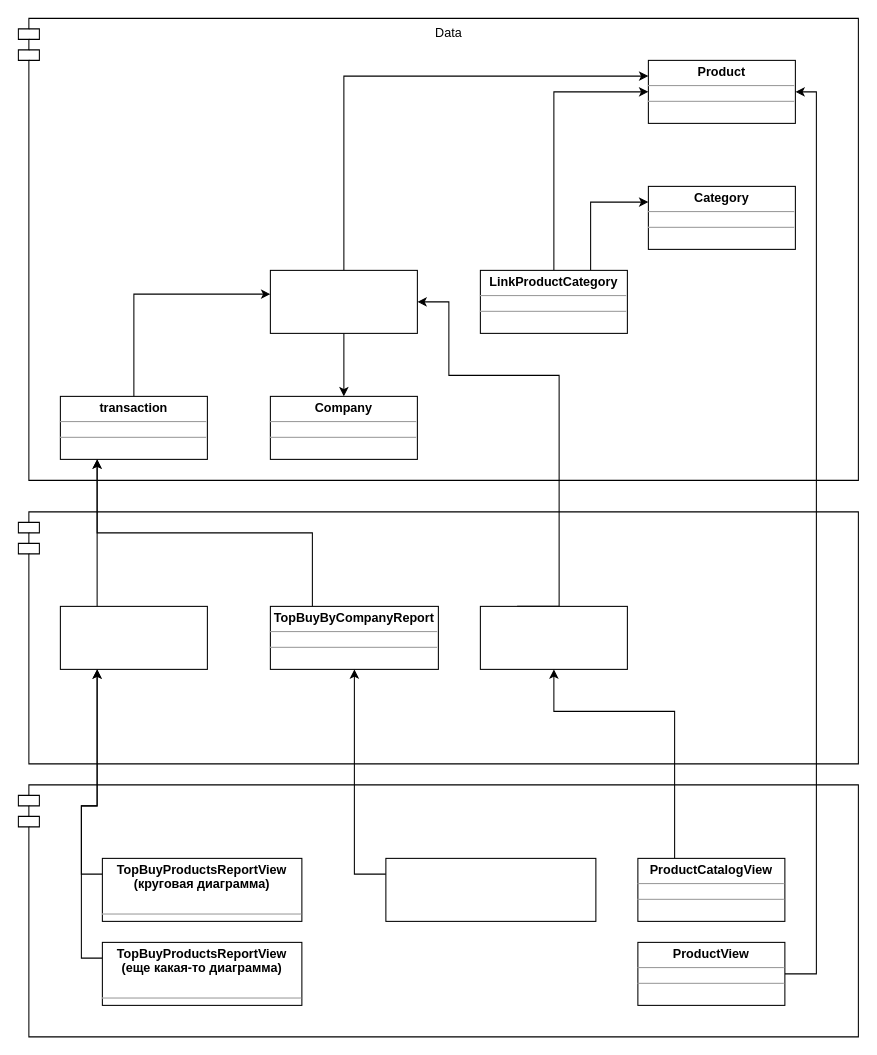
The diagram is 877 pixels wide and 1055 high, and some of its shapes have lost their labels. The shapes that lost their labels are listed below. From the top down, each one's box as (x1, y1, x2, y2) in pixels, then its label:
(269, 269, 417, 333): CompanyProducts
(59, 605, 207, 669): TopBuyProductsReport
(17, 511, 858, 764): Application
(479, 605, 627, 669): ProductCatalog
(385, 857, 596, 921): TopBuyByCompanyView
(17, 784, 858, 1037): Presentation
